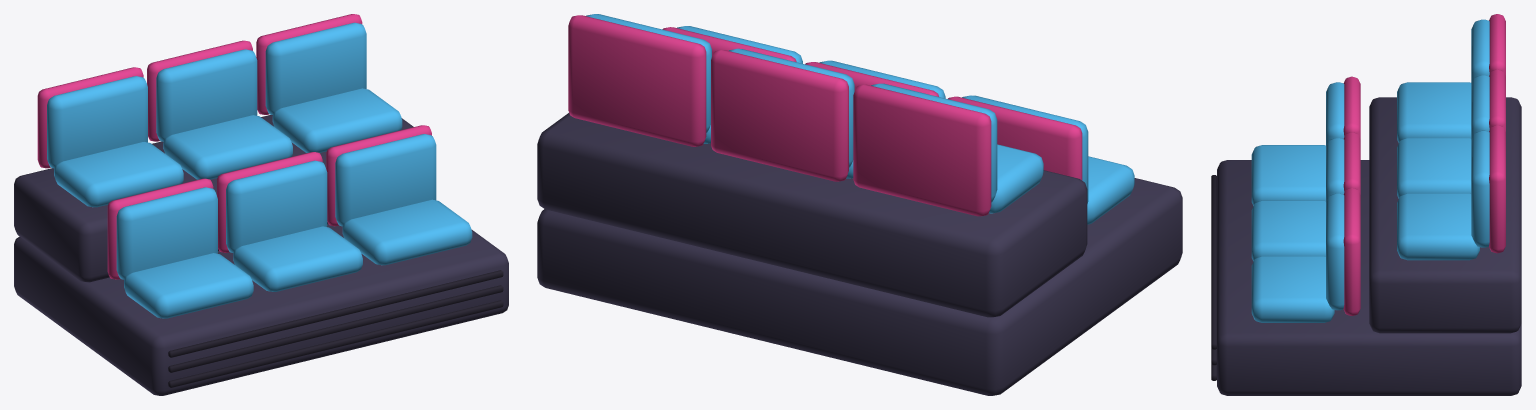
The model's file is Arena_Seats.fbx.
The picture shows the model from 3 angles, left to right: view 1: azimuth 30°, elevation 25°; view 2: azimuth 150°, elevation 25°; view 3: azimuth 270°, elevation 25°; orthographic projection. The views are drawn at different scales.
Visible parts, largest first — view 1: Seat, Body, Pink, Dark; view 2: Body, Pink, Seat; view 3: Body, Seat, Pink, Dark.
Boxes of the visible parts, bbox=[...] form: Seat: bbox=[47, 22, 472, 318]; Body: bbox=[14, 115, 508, 395]; Pink: bbox=[37, 14, 431, 279]; Dark: bbox=[168, 270, 503, 387]; Body: bbox=[537, 113, 1182, 395]; Pink: bbox=[568, 15, 1082, 216]; Seat: bbox=[586, 14, 1134, 224]; Body: bbox=[1217, 97, 1521, 395]; Seat: bbox=[1251, 19, 1489, 322]; Pink: bbox=[1343, 14, 1505, 315]; Dark: bbox=[1211, 175, 1216, 380].
Bounding box in the file's own units: 8.99 × 5 × 6.5.
